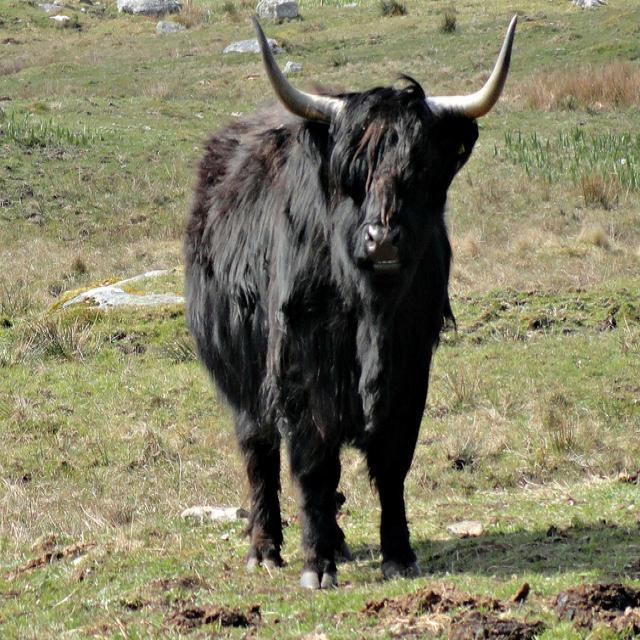cow: (185, 4, 520, 593)
